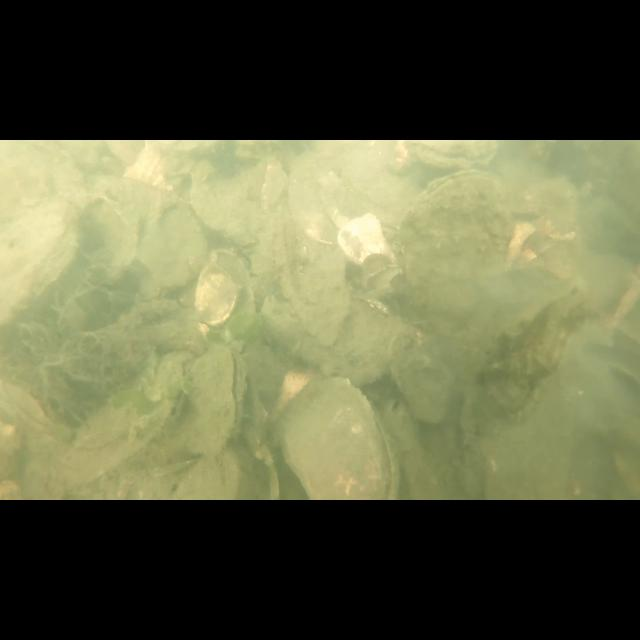Oyster-Closed: (398, 168, 516, 338), (462, 284, 588, 436), (276, 374, 398, 500), (67, 348, 185, 478), (259, 292, 413, 388), (274, 199, 346, 347), (0, 194, 78, 328), (136, 192, 208, 288), (393, 328, 455, 427), (0, 377, 54, 437), (193, 256, 237, 328), (408, 140, 500, 170)
Oyster-Open: (180, 342, 248, 453)
